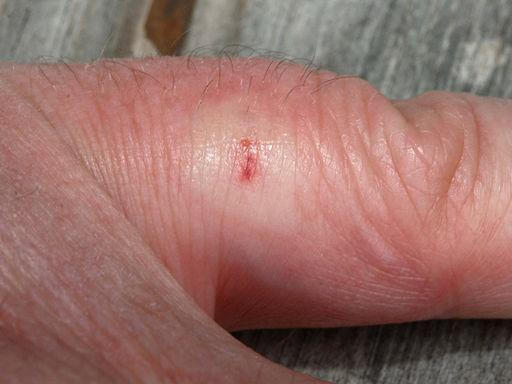Bee-bite: (216, 127, 277, 193)
